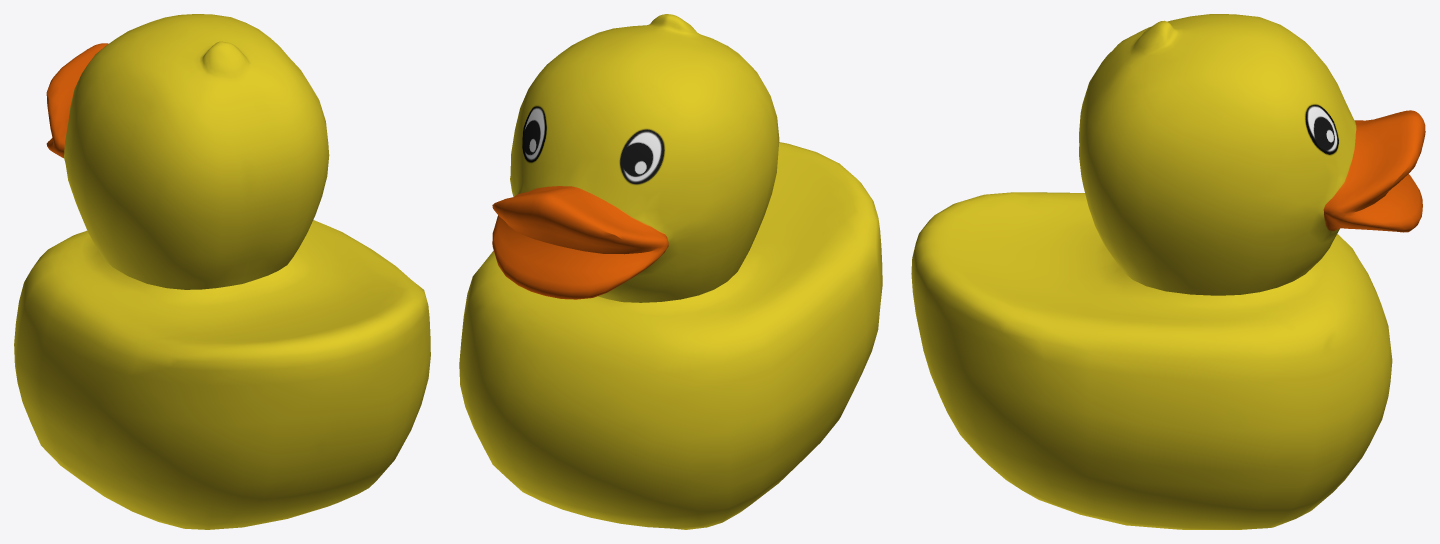
Rendered from newduck.dae.
3 views of the same model, side by side, from view 1: azimuth 30°, elevation 25°; view 2: azimuth 150°, elevation 25°; view 3: azimuth 270°, elevation 25° (orthographic). The views are drawn at different scales.
Visible parts, largest first — view 1: duck; view 2: duck; view 3: duck.
Boxes of the visible parts, <box> form: duck: <box>14,14,430,529</box>; duck: <box>459,14,882,529</box>; duck: <box>911,14,1425,529</box>.
Size of the model in its own units: 14.46 by 19.64 by 19.29.
Materials: 1 (1 with a texture image).
